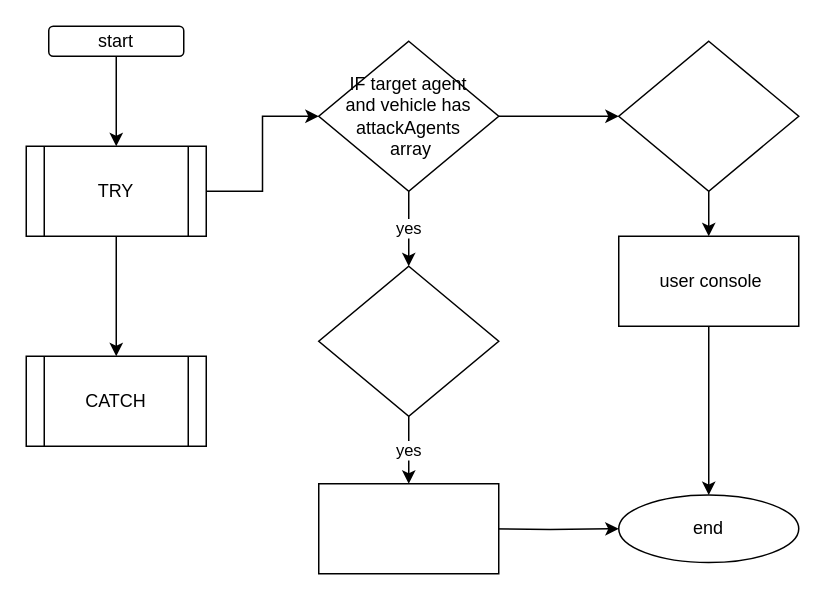
Image size: 825x600. Some labels were removed from this diagram. Each missing label, with the box of its shape:
ELSE: (617, 40, 799, 191)
IF target agent have the vehicle id into attacking list: (317, 265, 499, 416)
remove the vehicle id into target agent list: (317, 482, 499, 574)
